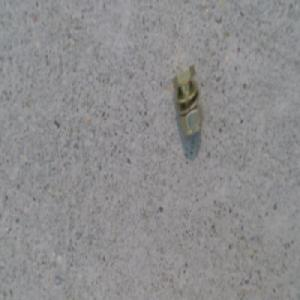BoltNutSet: (171, 64, 200, 139)
